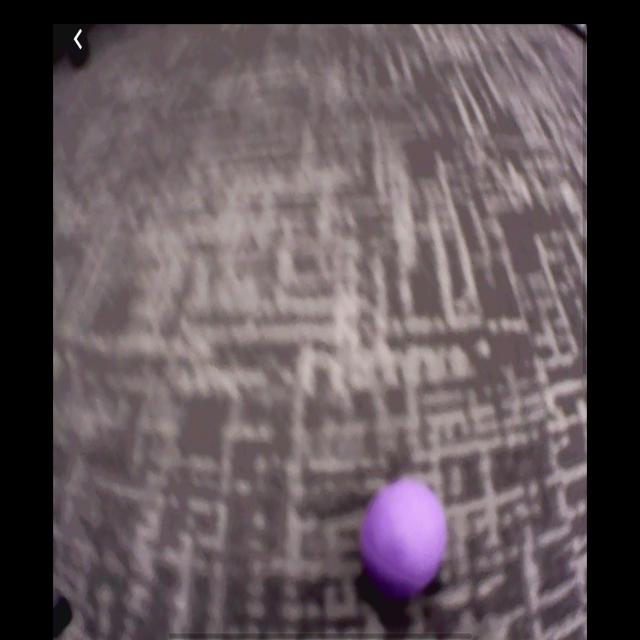ball: (364, 477, 449, 598)
